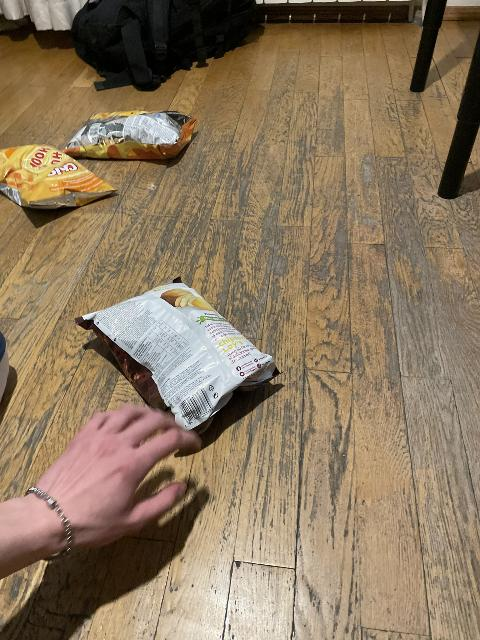Chio Cascaval 125g: (0, 143, 118, 207), (63, 110, 198, 161)
Lays Beef Grilled Ribs 125g: (76, 283, 279, 429)
